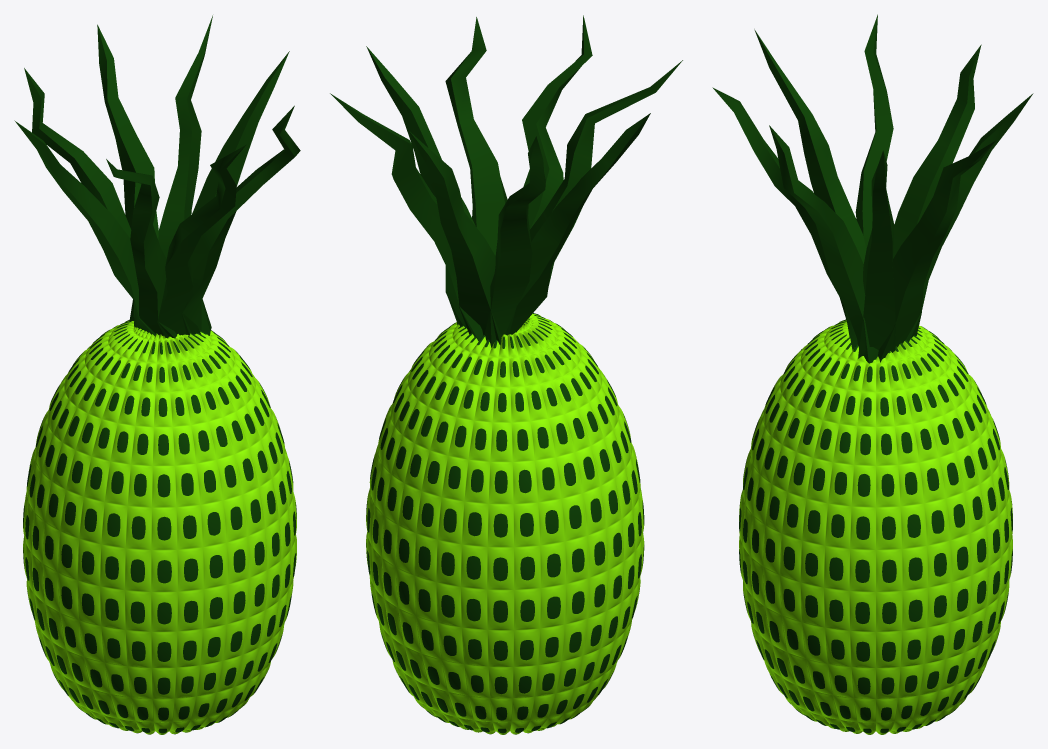
File: Pineapple.FBX
3 views of the same model, side by side, from view 1: azimuth 30°, elevation 25°; view 2: azimuth 150°, elevation 25°; view 3: azimuth 270°, elevation 25° (orthographic).
Visible parts, largest first — view 1: Sphere001; view 2: Sphere001; view 3: Sphere001.
Part boxes in pixels (x1,y1,x2,y2): Sphere001: (14,15,300,734); Sphere001: (330,15,682,734); Sphere001: (712,14,1033,734).
Size of the model in its own units: 73.44 by 159 by 73.44.
